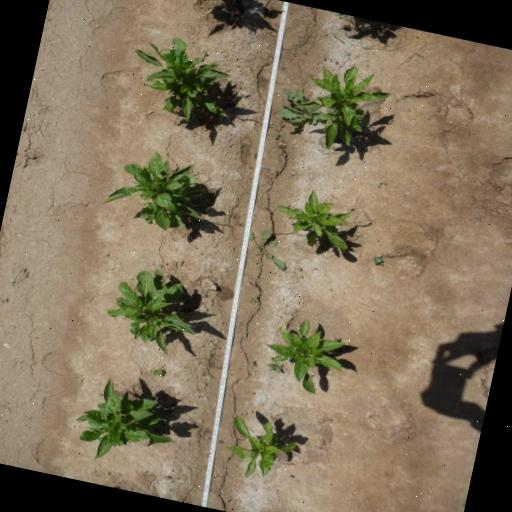plant: (120, 28, 244, 128), (66, 369, 184, 474), (94, 258, 210, 360), (102, 147, 218, 232), (305, 60, 396, 153), (270, 180, 362, 254), (219, 409, 303, 488), (266, 316, 350, 395)
weed: (240, 224, 294, 274), (273, 86, 324, 130), (264, 358, 285, 376), (146, 364, 164, 376), (370, 253, 386, 266), (374, 179, 388, 189), (247, 295, 256, 304)
